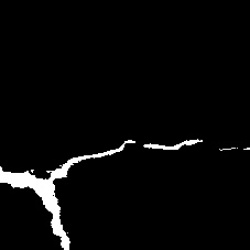crack: (0, 140, 248, 248)
